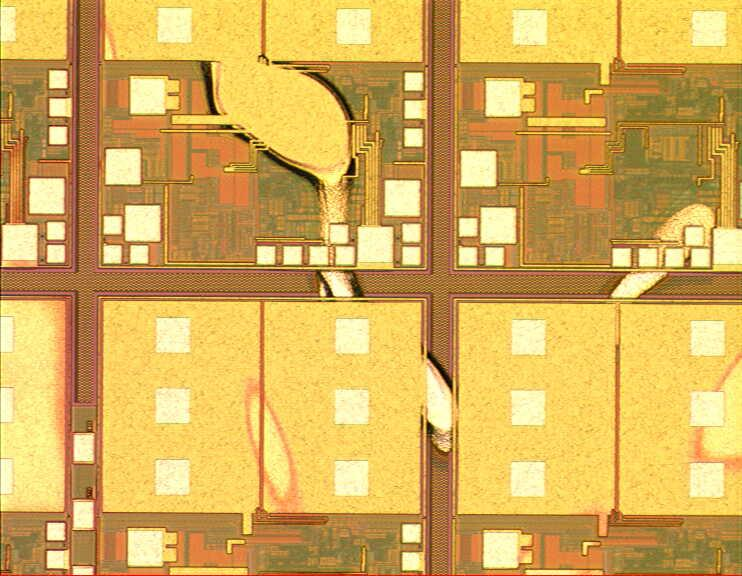COATING BAD: (87, 13, 742, 528)
